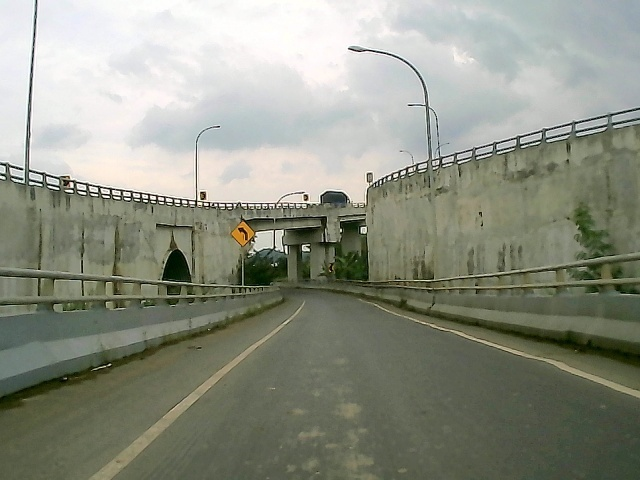Tikungan ke kiri: (230, 219, 259, 250)
